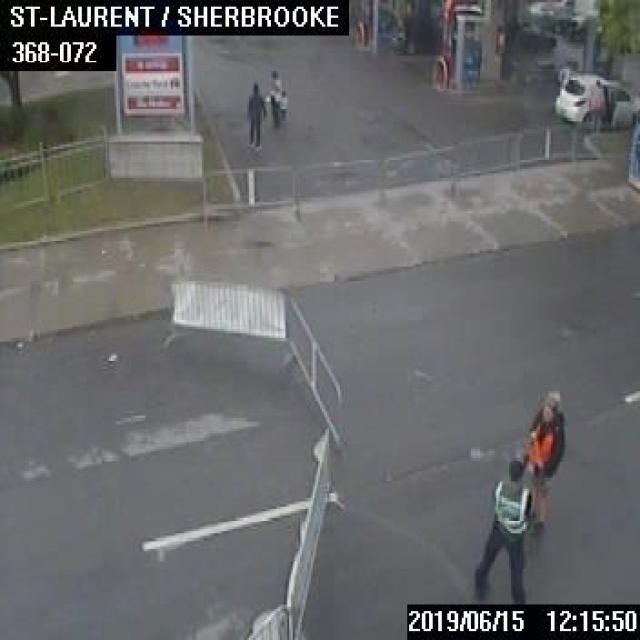pedestrian: (471, 457, 531, 600), (523, 387, 564, 521), (243, 81, 264, 148), (587, 78, 603, 132), (266, 69, 279, 123), (279, 89, 288, 115)
vehicle: (552, 71, 638, 128), (391, 15, 442, 54), (510, 23, 554, 52)
